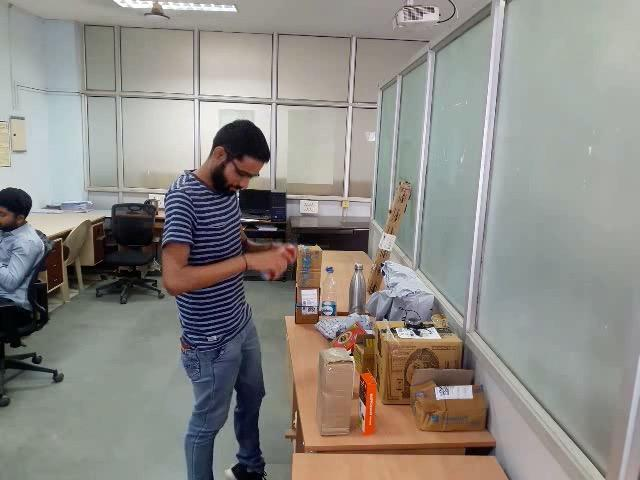Normal: (73, 59, 640, 480)
